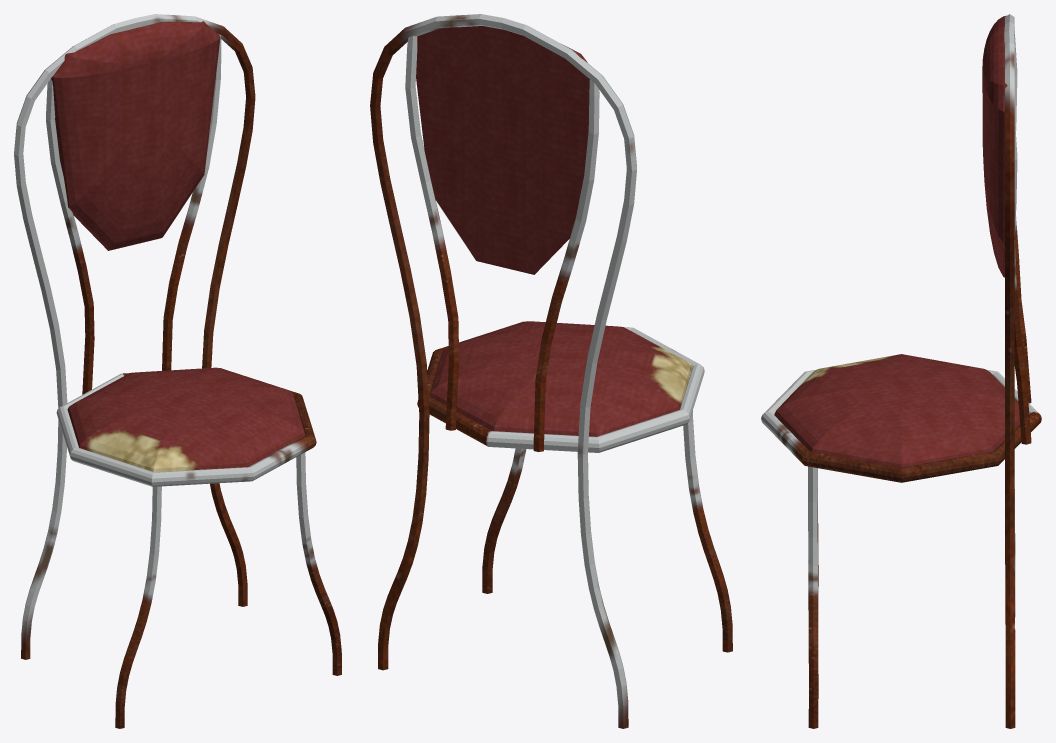
Rendered from cadeira variada.fbx.
The picture shows the model from 3 angles, left to right: view 1: azimuth 30°, elevation 25°; view 2: azimuth 150°, elevation 25°; view 3: azimuth 270°, elevation 25°; orthographic projection. The views are drawn at different scales.
Parts seen in each view (by area): view 1: Sphere; view 2: Sphere; view 3: Sphere.
Part boxes in pixels (x1,y1,x2,y2): Sphere: [14, 14, 341, 728]; Sphere: [370, 14, 732, 728]; Sphere: [761, 14, 1041, 728].
Bounding box in the file's own units: 61.16 × 149 × 59.06.
